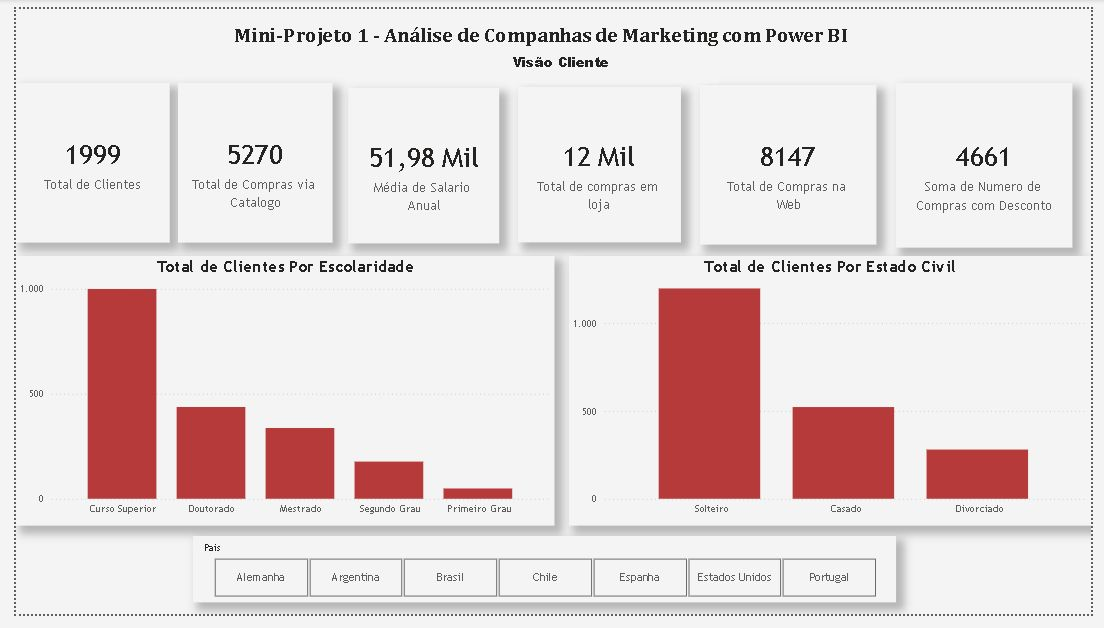

The page's visual inventory and layout, read from the dashboard file:
{"tool":"powerbi","page":{"name":"Visão Cliente","canvas":[1280,720],"ordinal":0},"visuals":[{"type":"card","fields":{"Values":["CountNonNull(DadosMarketing.ID)"]},"box":[0,88,183,190],"z":0},{"type":"card","fields":{"Values":["Avg(DadosMarketing.Salario Anual)"]},"box":[395,94,180,185],"z":1},{"type":"card","fields":{"Values":["Sum(DadosMarketing.Numero de Compras na Loja)"]},"box":[598,93,194,185],"z":2},{"type":"card","fields":{"Values":["Sum(DadosMarketing.Numero de Compras na Web)"]},"box":[814,91,210,190],"z":3},{"type":"card","fields":{"Values":["Sum(DadosMarketing.Numero de Compras com Desconto)"]},"box":[1048,88,210,196],"z":4},{"type":"card","fields":{"Values":["Sum(DadosMarketing.Numero de Compras via Catalogo)"]},"box":[193,88,184,190],"z":5},{"type":"textbox","box":[255,11,914,54],"z":6},{"type":"textbox","box":[586,46,251,42],"z":7},{"type":"clusteredColumnChart","title":"Total de Clientes Por Escolaridade","fields":{"Y":["CountNonNull(DadosMarketing.ID)"],"Category":["DadosMarketing.Escolaridade"]},"box":[0,294,641,321],"z":8},{"type":"clusteredColumnChart","title":"Total de Clientes Por Estado Civil","fields":{"Y":["CountNonNull(DadosMarketing.ID)"],"Category":["DadosMarketing.Estado Civil"]},"box":[658,294,622,321],"z":9},{"type":"slicer","fields":{"Values":["DadosMarketing.Pais"]},"box":[211,627,837,79],"z":10}]}

Visuals, with their boxes in screenshot pixels (x1, y1, x2, y2), scaled from the page's 1280x720 canvas onto the 1104x628 screenshot:
card - CountNonNull(DadosMarketing.ID): box(0, 77, 158, 242)
card - Avg(DadosMarketing.Salario Anual): box(341, 82, 496, 243)
card - Sum(DadosMarketing.Numero de Compras na Loja): box(516, 81, 683, 242)
card - Sum(DadosMarketing.Numero de Compras na Web): box(702, 79, 883, 245)
card - Sum(DadosMarketing.Numero de Compras com Desconto): box(904, 77, 1085, 248)
card - Sum(DadosMarketing.Numero de Compras via Catalogo): box(166, 77, 325, 242)
textbox: box(220, 10, 1008, 57)
textbox: box(505, 40, 722, 77)
"Total de Clientes Por Escolaridade" clusteredColumnChart: box(0, 256, 553, 536)
"Total de Clientes Por Estado Civil" clusteredColumnChart: box(568, 256, 1103, 536)
slicer - DadosMarketing.Pais: box(182, 547, 904, 616)
